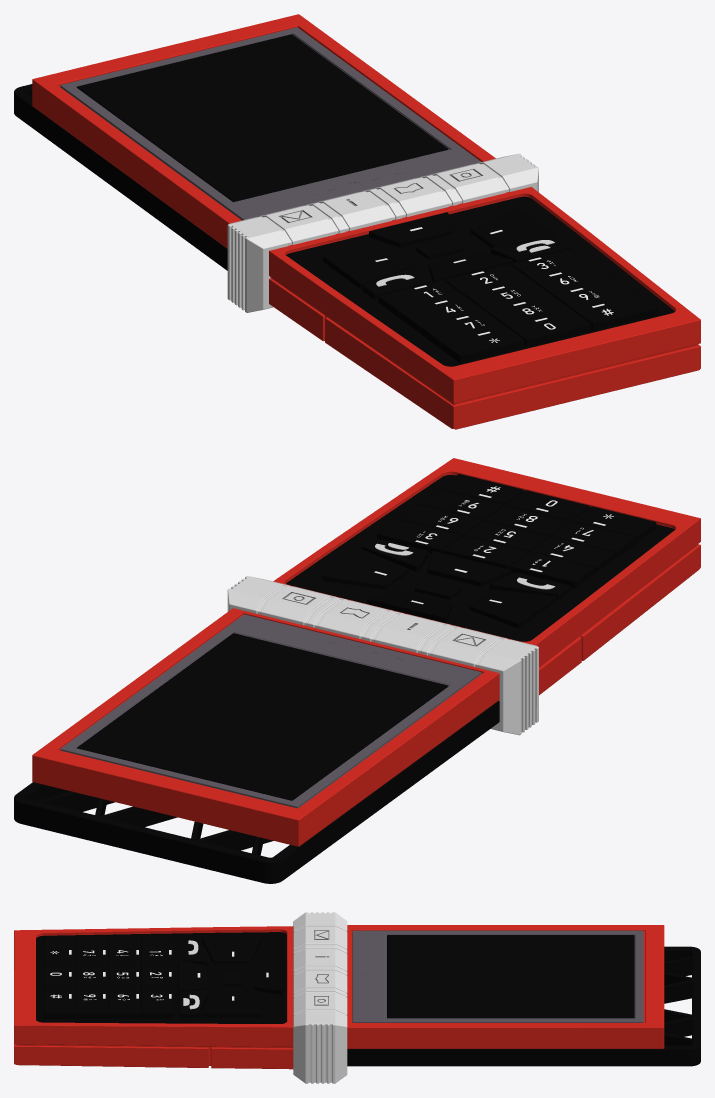
File: Phone.fbx
3 renders of one model, top to bottom at view 1: azimuth 30°, elevation 25°; view 2: azimuth 150°, elevation 25°; view 3: azimuth 270°, elevation 25°, orthographic. The views are drawn at different scales.
Parts seen in each view (by area): view 1: Cube, Cube.002, Cube.003, Cube.012, Cube.020, Cube.021, Cube.015, Cube.017, Cube.016, Cube.019, Cube.011, Cube.006 (+10 smaller); view 2: Cube, Cube.002, Cube.012, Cube.003, Cube.021, Cube.020, Cube.006, Cube.018, Cube.007, Cube.019, Cube.001, Cube.015 (+10 smaller); view 3: Cube, Cube.002, Cube.012, Cube.003, Cube.020, Cube.021, Cube.014, Cube.007, Cube.010, Cube.017, Cube.019, Cube.018 (+11 smaller).
Part boxes in pixels (box(x1,y1,x2,y2)): Cube: box(32, 14, 495, 248); Cube.002: box(269, 187, 700, 429); Cube.003: box(227, 153, 538, 312); Cube.012: box(14, 84, 227, 270); Cube.020: box(323, 249, 409, 288); Cube.021: box(470, 208, 556, 247); Cube.015: box(440, 325, 524, 363); Cube.017: box(573, 293, 657, 330); Cube.016: box(507, 309, 591, 346); Cube.019: box(369, 212, 453, 247); Cube.011: box(419, 310, 504, 347); Cube.006: box(378, 280, 462, 317); Cube: box(32, 608, 499, 846); Cube.002: box(273, 458, 700, 695); Cube.012: box(14, 700, 499, 883); Cube.003: box(227, 576, 538, 735); Cube.021: box(322, 548, 408, 589); Cube.020: box(469, 589, 555, 628); Cube.006: box(510, 551, 594, 588); Cube.018: box(427, 551, 511, 586); Cube.007: box(377, 519, 461, 553); Cube.019: box(367, 590, 451, 623); Cube.001: box(443, 535, 527, 569); Cube.015: box(572, 506, 656, 543); Cube: box(347, 925, 664, 1048); Cube.002: box(14, 926, 293, 1069); Cube.012: box(347, 946, 700, 1066); Cube.003: box(293, 912, 347, 1083); Cube.020: box(202, 938, 261, 963); Cube.021: box(202, 993, 261, 1017); Cube.014: box(76, 988, 108, 1018); Cube.007: box(141, 988, 173, 1018); Cube.010: box(109, 988, 140, 1018); Cube.017: box(44, 988, 75, 1018); Cube.019: box(253, 960, 281, 994); Cube.018: box(178, 960, 207, 994).
Bounding box in the file's own units: 372 × 90.66 × 959.
